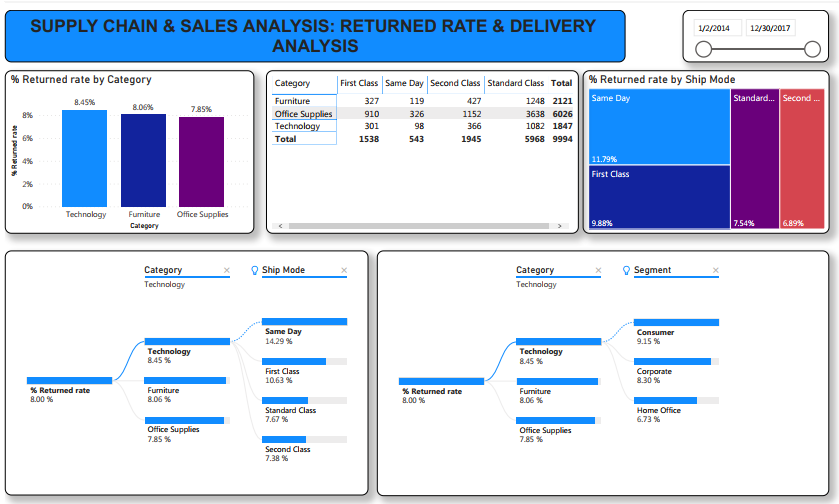

What the dashboard file says about the page in this screenshot:
{"tool":"powerbi","page":{"name":"Returned Rate & Delivery Analysis","canvas":[1280,800],"ordinal":2},"visuals":[{"type":"textbox","box":[0,0,950.9,80.4],"z":0},{"type":"slicer","fields":{"Values":["Calendar.Date"]},"box":[1038.9,0,224.5,80.4],"z":1000},{"type":"clusteredColumnChart","fields":{"Y":["Measures (2).% Returned rate"],"Category":["Supply Chain & Sales.Category"]},"box":[0,92.5,382.2,250.2],"z":2000},{"type":"treemap","fields":{"Group":["Supply Chain & Sales.Ship Mode"],"Values":["Measures (2).% Returned rate"]},"box":[885.7,92.5,377.6,250.2],"z":3000},{"type":"decompositionTreeVisual","fields":{"Analyze":["Measures (2).% Returned rate"],"ExplainBy":["Supply Chain & Sales.Category","Supply Chain & Sales.Ship Mode"]},"box":[0,368.5,556.6,374.6],"z":4000},{"type":"decompositionTreeVisual","fields":{"Analyze":["Measures (2).% Returned rate"],"ExplainBy":["Supply Chain & Sales.Category","Supply Chain & Sales.Segment"]},"box":[570.2,368.5,693.1,376.1],"z":5000},{"type":"pivotTable","fields":{"Rows":["Supply Chain & Sales.Category"],"Columns":["Supply Chain & Sales.Ship Mode"],"Values":["CountNonNull(Supply Chain & Sales.Retail Order ID)"]},"box":[400.4,92.5,479.2,250.2],"z":6000}]}

Visuals, with their boxes on the page's 1280x800 design canvas (x1, y1, x2, y2). These are canvas units, not pixel positions in the 839x504 screenshot, which may show the page scaled, cropped or inside an application window:
textbox: rect(0, 0, 951, 80)
slicer - Calendar.Date: rect(1039, 0, 1263, 80)
clusteredColumnChart - Measures (2).% Returned rate x Supply Chain & Sales.Category: rect(0, 92, 382, 343)
treemap - Supply Chain & Sales.Ship Mode x Measures (2).% Returned rate: rect(886, 92, 1263, 343)
decompositionTreeVisual - Measures (2).% Returned rate x Supply Chain & Sales.Category: rect(0, 368, 557, 743)
decompositionTreeVisual - Measures (2).% Returned rate x Supply Chain & Sales.Category: rect(570, 368, 1263, 745)
pivotTable - Supply Chain & Sales.Category x Supply Chain & Sales.Ship Mode: rect(400, 92, 880, 343)
